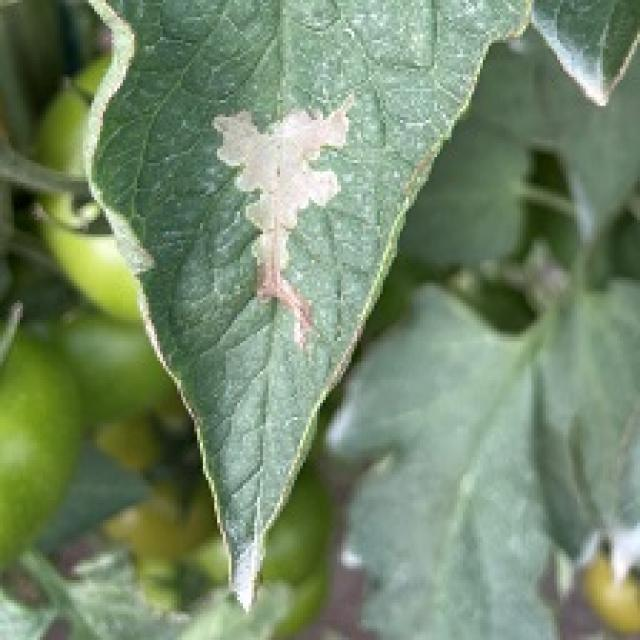Tuta absoluta: (211, 98, 386, 359)
